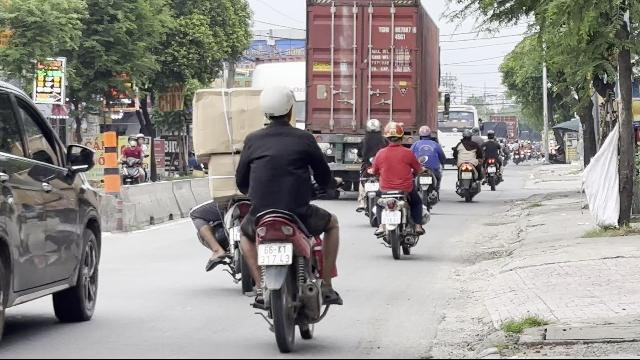helmet: (256, 82, 296, 124), (383, 121, 405, 145)
licenseplate: (258, 243, 292, 265), (382, 211, 401, 224)
motorcyclist: (198, 81, 346, 350), (366, 121, 428, 258)
